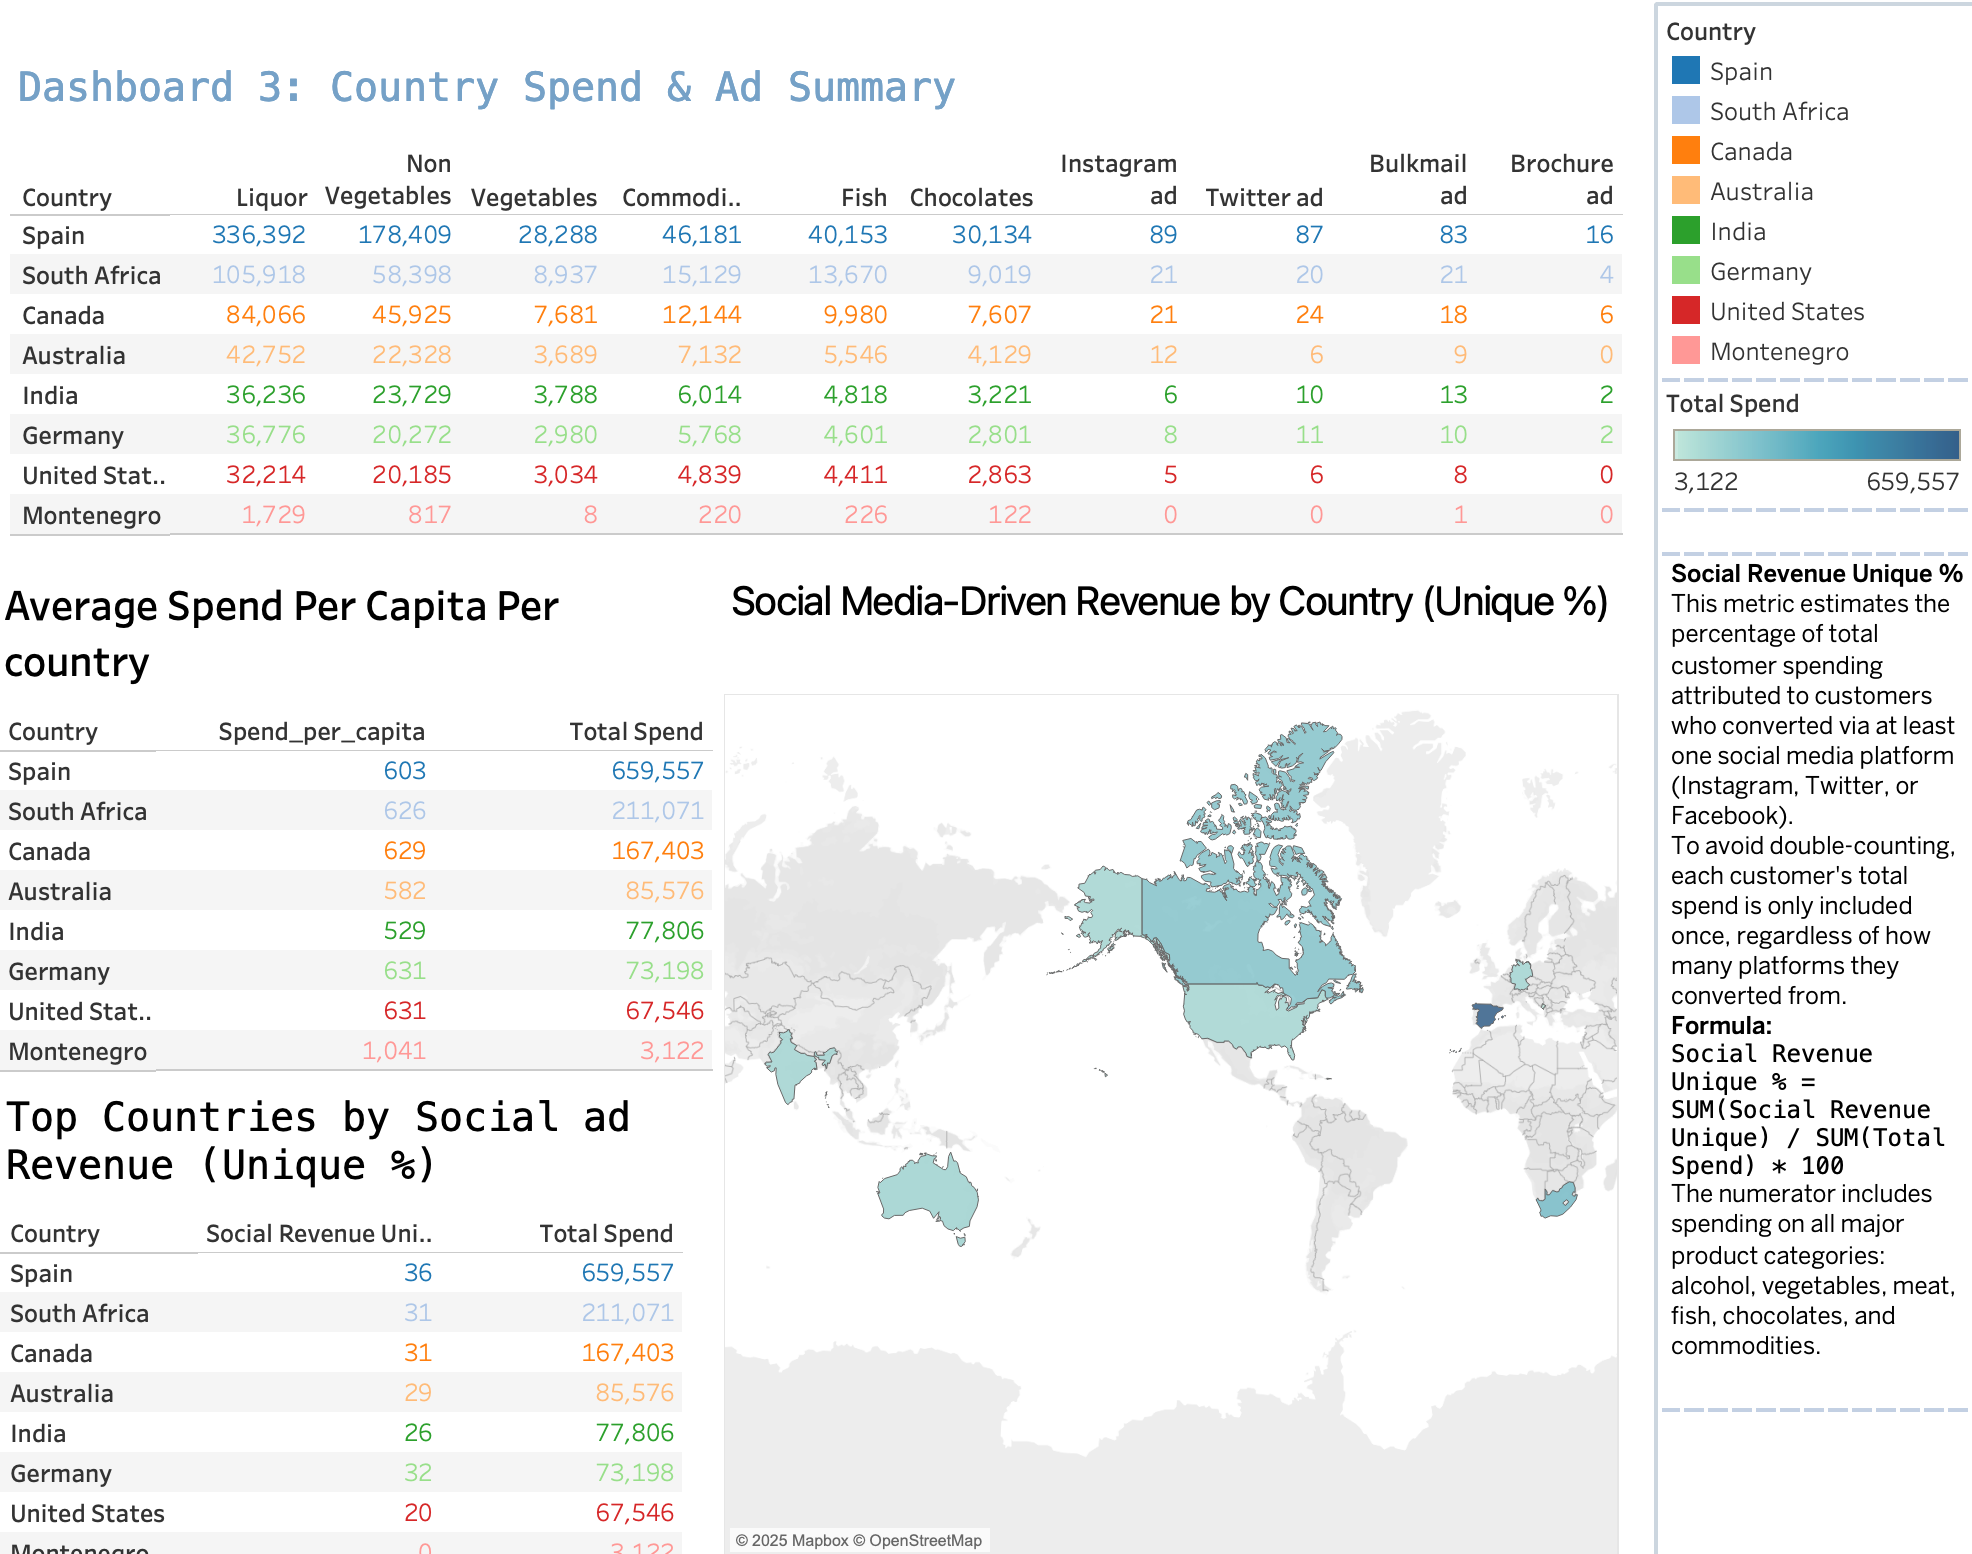

The dashboard page shown, as its layout file describes it:
{"tool":"tableau","page":{"name":"Dashboard 3","canvas":[1000,800],"ordinal":2},"visuals":[{"type":"legend","title":"Country Spend &Ad Summary","param":"[federated.0yin0b90ktfr8m1gxv2eo0gaev91 (copy)].[none:Country:nk]","box":[832,8,160,186]},{"type":"worksheet","title":"Country Spend &Ad Summary","mark":"Automatic","rows":["Country"],"box":[8,33,807,613]},{"type":"legend","title":"Sheet 25","param":"[federated.0yin0b90ktfr8m1gxv2eo0gaev91 (copy)].[sum:Calculation_179109570749710","box":[832,194,160,65]},{"type":"legend","title":"Sheet 25","param":"[federated.0yin0b90ktfr8m1gxv2eo0gaev91 (copy)].[sum:Calculation_179109570749710","box":[832,259,160,22]},{"type":"text","box":[832,281,160,428]},{"type":"worksheet","title":"Sheet 27","mark":"Automatic","rows":["Country"],"box":[1,289,359,363]},{"type":"worksheet","title":"Sheet 25","mark":"Automatic","box":[365,289,448,495]},{"type":"worksheet","title":"Sheet 29","mark":"Automatic","rows":["Country"],"box":[2,548,360,248]}]}

Visuals, with their boxes in screenshot pixels (x1, y1, x2, y2), scaled from the page's 1000x800 canvas onto the 1972x1554 screenshot:
"Country Spend &Ad Summary" legend: box=[1641, 16, 1956, 377]
"Country Spend &Ad Summary" worksheet: box=[16, 64, 1607, 1255]
"Sheet 25" legend: box=[1641, 377, 1956, 503]
"Sheet 25" legend: box=[1641, 503, 1956, 546]
text: box=[1641, 546, 1956, 1377]
"Sheet 27" worksheet: box=[2, 561, 710, 1267]
"Sheet 25" worksheet: box=[720, 561, 1603, 1523]
"Sheet 29" worksheet: box=[4, 1064, 714, 1546]
